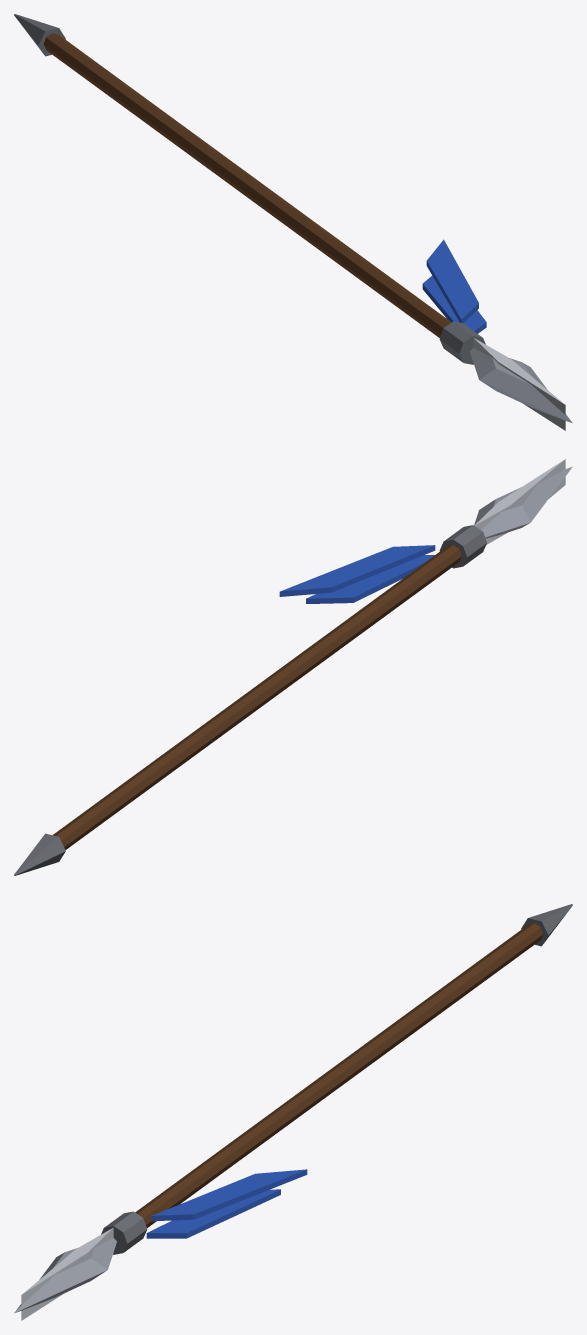
The model's file is 05_Iron_Spear.glb.
The picture shows the model from 3 angles, top to bottom: view 1: azimuth 30°, elevation 25°; view 2: azimuth 150°, elevation 25°; view 3: azimuth 330°, elevation 25°; orthographic projection.
Visible parts, largest first — view 1: 05_Iron_Spear; view 2: 05_Iron_Spear; view 3: 05_Iron_Spear.
Boxes of the visible parts, x1,y1,x2,y2 form: 05_Iron_Spear: [14, 14, 572, 430]; 05_Iron_Spear: [14, 459, 572, 875]; 05_Iron_Spear: [14, 904, 572, 1320].
Bounding box in the file's own units: 0.25 × 0.064 × 2.24.
